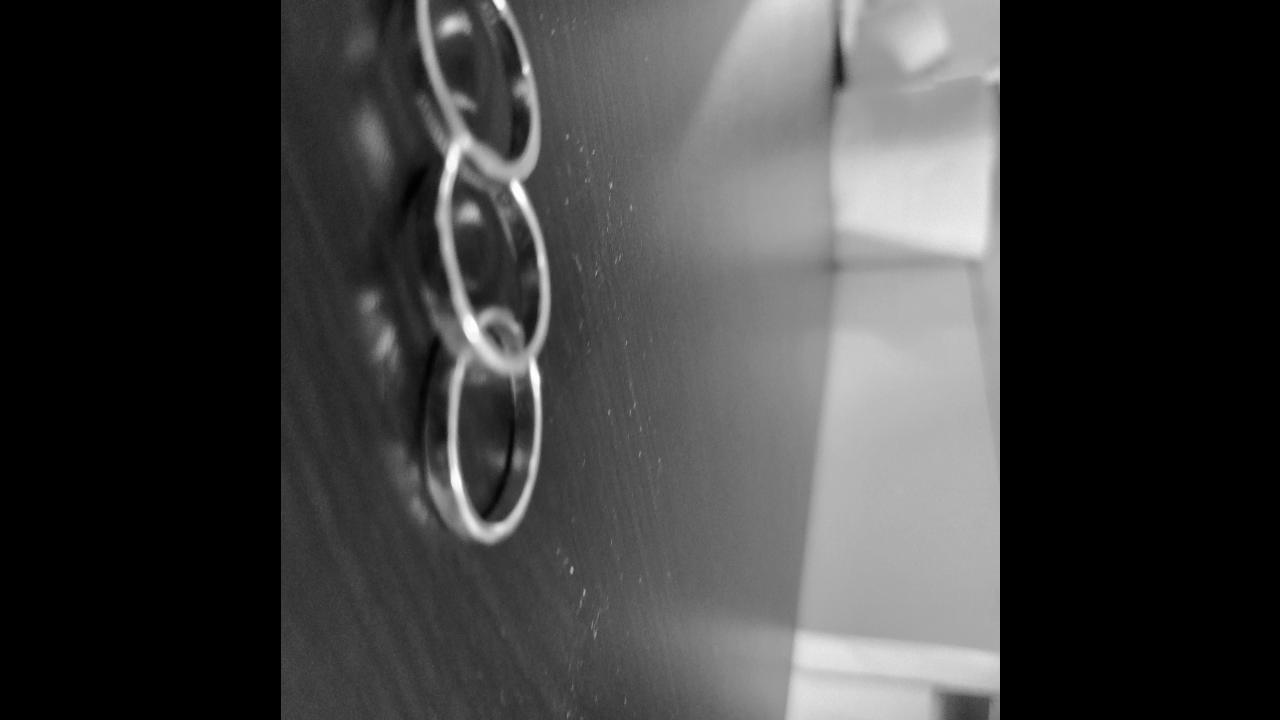ring: (399, 142, 552, 374), (421, 326, 544, 550), (399, 0, 541, 187)
